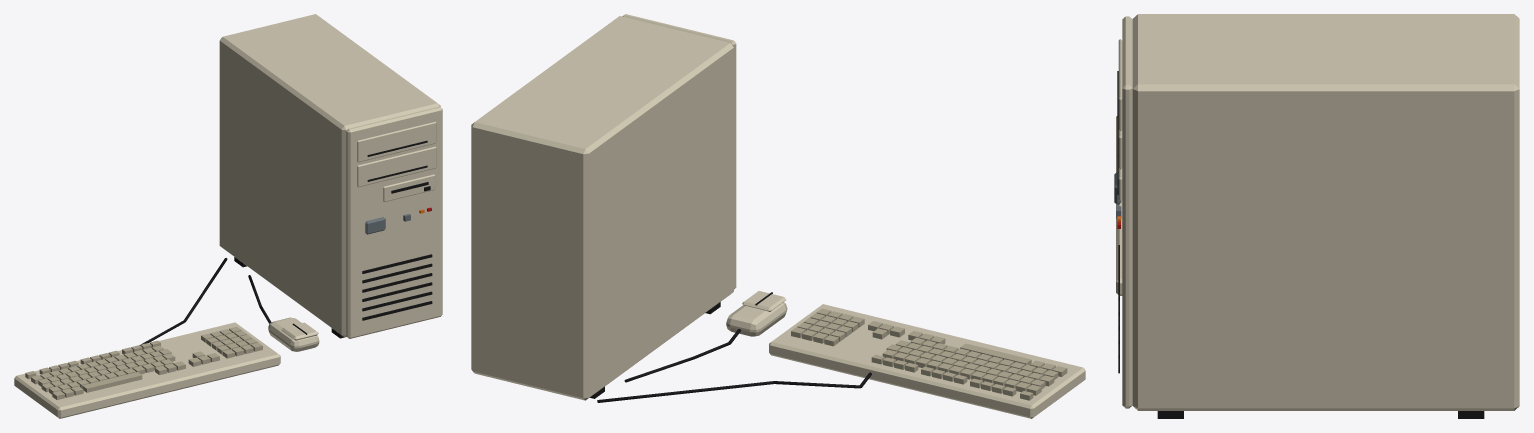
Rendered from ComputadorDeMesa.fbx.
3 renders of one model, left to right at view 1: azimuth 30°, elevation 25°; view 2: azimuth 150°, elevation 25°; view 3: azimuth 270°, elevation 25°, orthographic. The views are drawn at different scales.
Parts seen in each view (by area): view 1: ComputadorDeMesa; view 2: ComputadorDeMesa; view 3: ComputadorDeMesa.
Boxes of the visible parts, <box> form: ComputadorDeMesa: <box>14,14,442,418</box>; ComputadorDeMesa: <box>471,14,1085,418</box>; ComputadorDeMesa: <box>1114,14,1519,418</box>.
Size of the model in its own units: 0.785 by 0.42 by 0.459.
